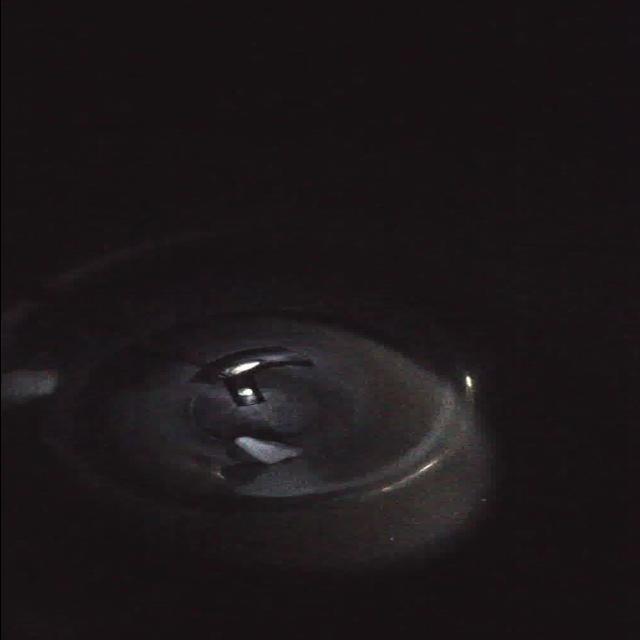impurity: (229, 430, 313, 470)
